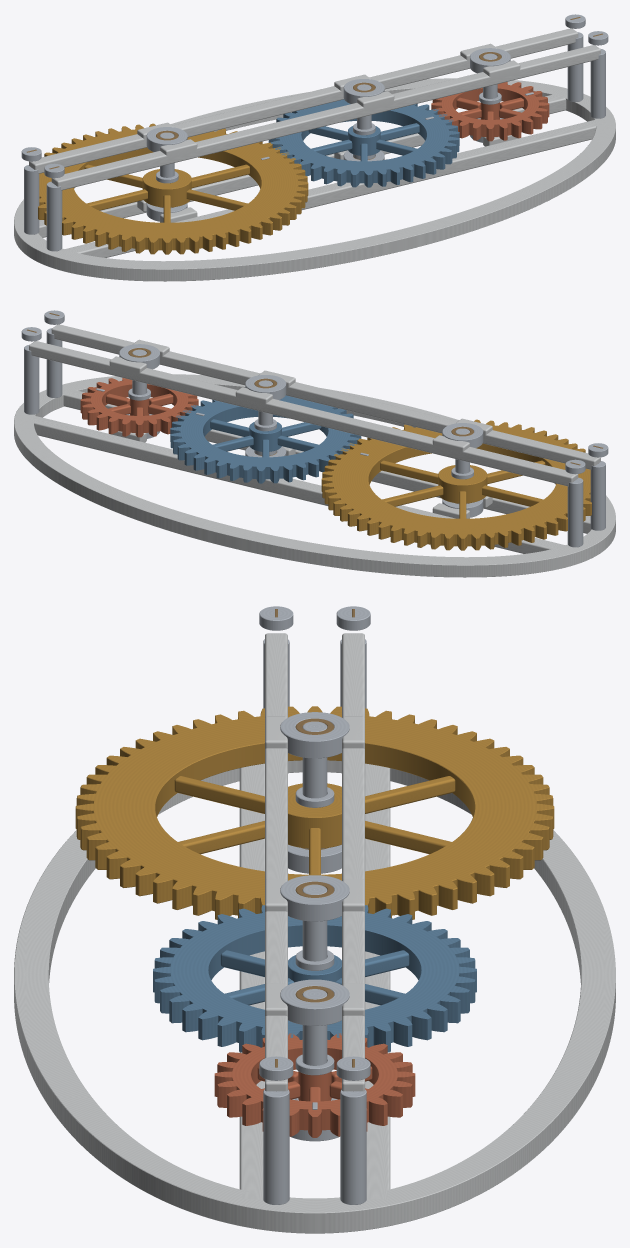
The model's file is mechanism.gltf.
The picture shows the model from 3 angles, top to bottom: view 1: azimuth 30°, elevation 25°; view 2: azimuth 150°, elevation 25°; view 3: azimuth 270°, elevation 25°; orthographic projection. The views are drawn at different scales.
Visible parts, largest first — view 1: chassis, input-rim, bridge-rail, idler-rim, bridge-rail.001, base-rail, output-rim, base-rail.001, input-hub, post, post.001, post.002 (+14 smaller); view 2: chassis, input-rim, bridge-rail.001, idler-rim, bridge-rail, base-rail.001, output-rim, base-rail, input-hub, post.001, post, post.003 (+14 smaller); view 3: input-rim, chassis, idler-rim, output-rim, bridge-rail, bridge-rail.001, base-rail, base-rail.001, post.002, post.003, input-hub, housing25.021 (+10 smaller).
Part boxes in pixels (x1,y1,x2,y2): chassis: (14, 78, 615, 281); input-rim: (38, 123, 308, 254); bridge-rail: (51, 45, 600, 190); idler-rim: (268, 99, 459, 187); bridge-rail.001: (29, 28, 578, 173); base-rail: (59, 118, 606, 257); output-rim: (431, 82, 549, 141); base-rail.001: (22, 92, 567, 237); input-hub: (142, 169, 191, 207); post: (46, 181, 62, 251); post.001: (24, 165, 39, 234); post.002: (590, 48, 605, 118); chassis: (14, 374, 615, 577); input-rim: (321, 419, 591, 550); bridge-rail.001: (29, 341, 578, 486); idler-rim: (170, 395, 361, 483); bridge-rail: (51, 324, 600, 469); base-rail.001: (22, 414, 570, 553); output-rim: (80, 378, 198, 437); base-rail: (62, 388, 607, 533); input-hub: (438, 465, 487, 503); post.001: (567, 477, 583, 547); post: (590, 461, 605, 530); post.003: (24, 344, 39, 414); input-rim: (75, 706, 554, 919); chassis: (14, 760, 615, 1233); idler-rim: (153, 905, 476, 1051); output-rim: (214, 1033, 415, 1137); bridge-rail: (265, 633, 287, 1091); bridge-rail.001: (342, 633, 364, 1091); base-rail: (239, 763, 264, 1199); base-rail.001: (365, 763, 390, 1199); post.002: (263, 1089, 289, 1204); post.003: (340, 1089, 366, 1204); input-hub: (288, 783, 341, 848); housing25.021: (280, 875, 349, 921).
Size of the model in its own units: 0.292 by 0.0452 by 0.156.
6 materials, 6 textured.
